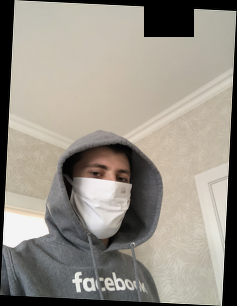with_mask: (71, 158, 132, 241)
